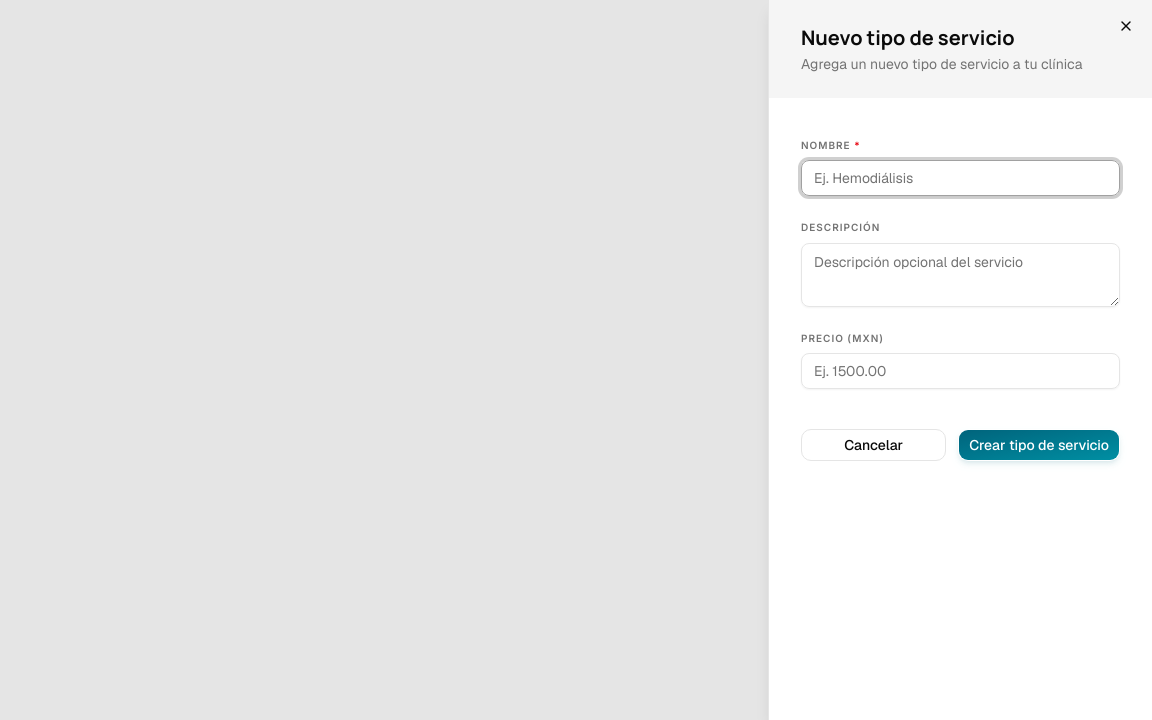
ServiceTypeDrawer › shows server error without closing the drawer
In the field labelled "Nombre *": (960, 178) [801,160,1120,196], type "Hemodiálisis"
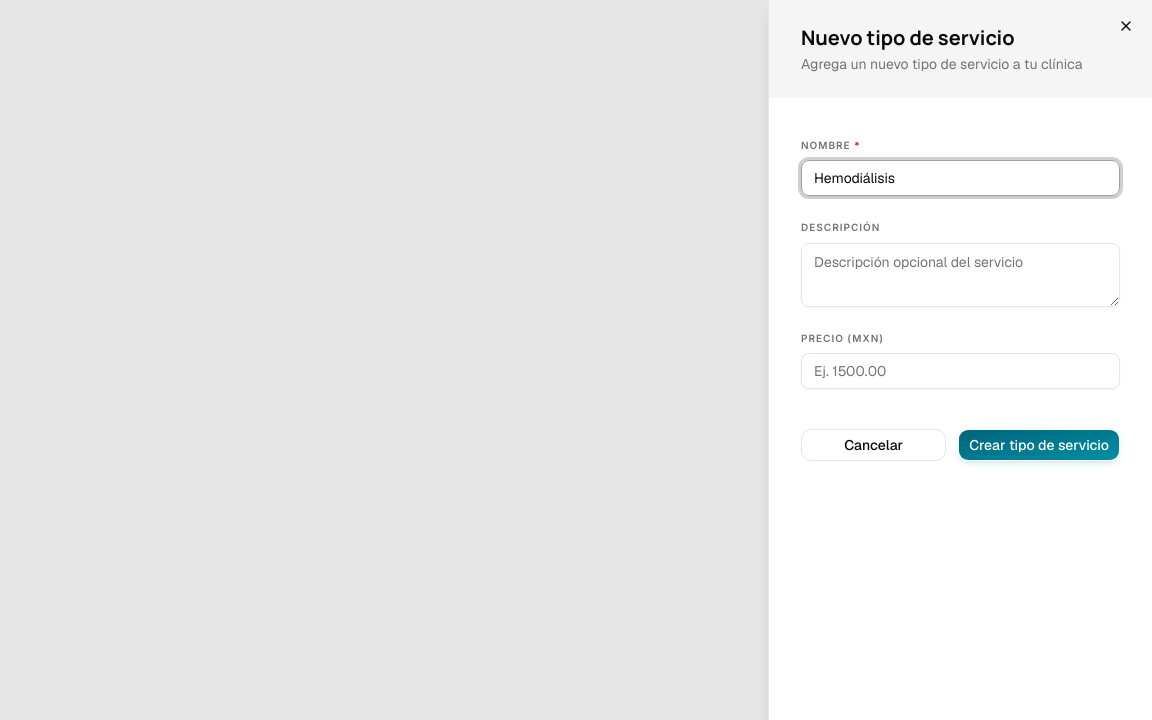
Click the button "Crear tipo de servicio": (1039, 445) [958,429,1120,461]
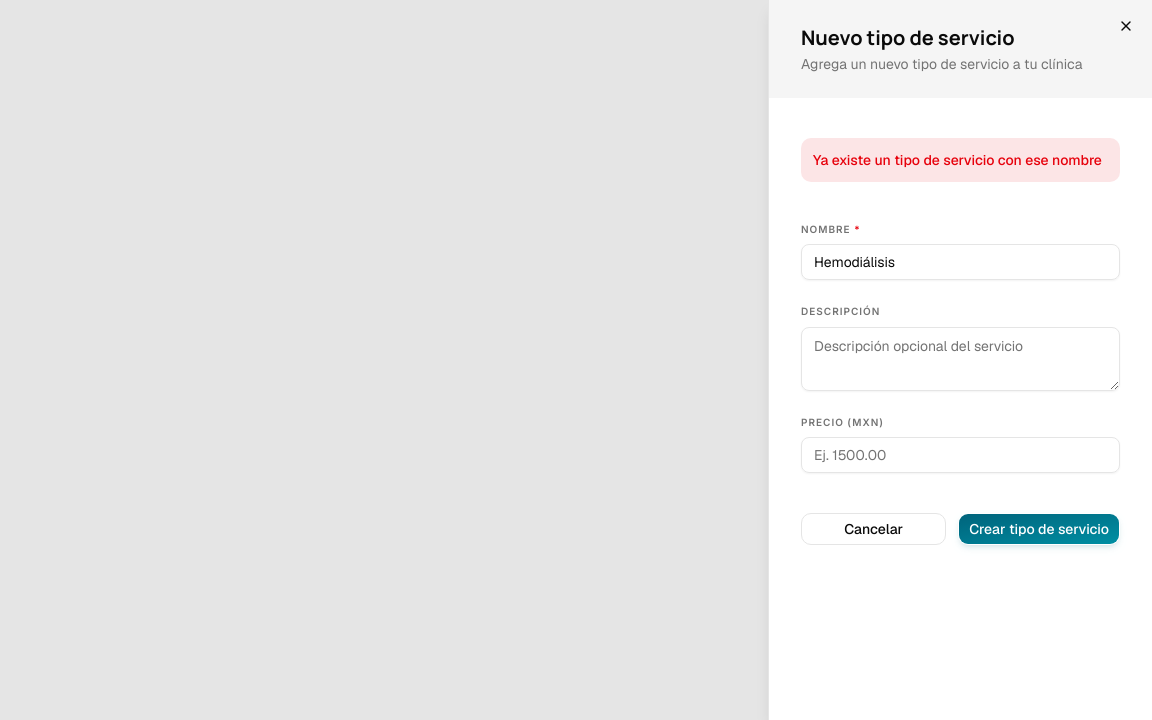
Expected: the heading "Nuevo tipo de servicio" is shown, [801,24,1015,51]
Expected: the text "Ya existe un tipo de servicio con ese nombre" is shown, [813,150,1108,170]
